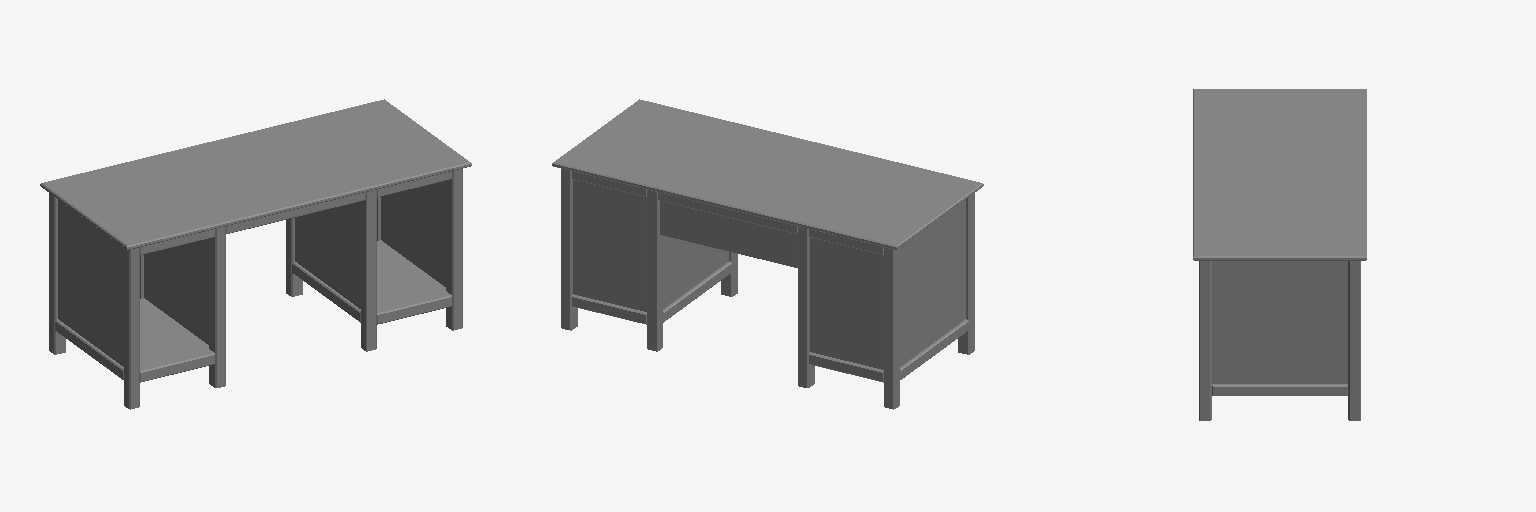
File: Desk.obj
3 renders of one model, left to right at view 1: azimuth 30°, elevation 25°; view 2: azimuth 150°, elevation 25°; view 3: azimuth 270°, elevation 25°, orthographic.
Visible parts, largest first — view 1: desk; view 2: desk; view 3: desk.
Boxes of the visible parts, <box> form: desk: <box>40,99,471,409</box>; desk: <box>552,99,983,409</box>; desk: <box>1193,89,1366,420</box>.
Bounding box in the file's own units: 62.99 × 29.13 × 27.56.